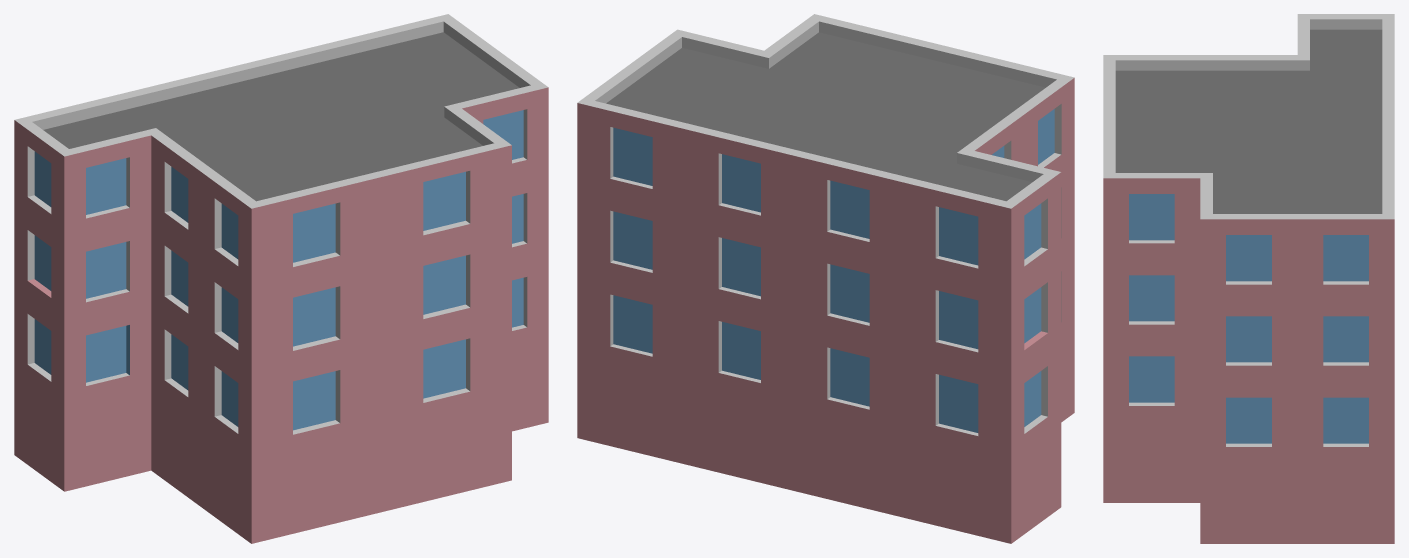
The model's file is building5.fbx.
3 renders of one model, left to right at view 1: azimuth 30°, elevation 25°; view 2: azimuth 150°, elevation 25°; view 3: azimuth 270°, elevation 25°, orthographic. The views are drawn at different scales.
Visible parts, largest first — view 1: polySurface18; view 2: polySurface18; view 3: polySurface18.
Boxes of the visible parts, x1,y1,x2,y2 form: polySurface18: [14, 14, 548, 543]; polySurface18: [577, 14, 1074, 543]; polySurface18: [1103, 14, 1394, 543].
Bounding box in the file's own units: 131 × 96.86 × 78.75.
